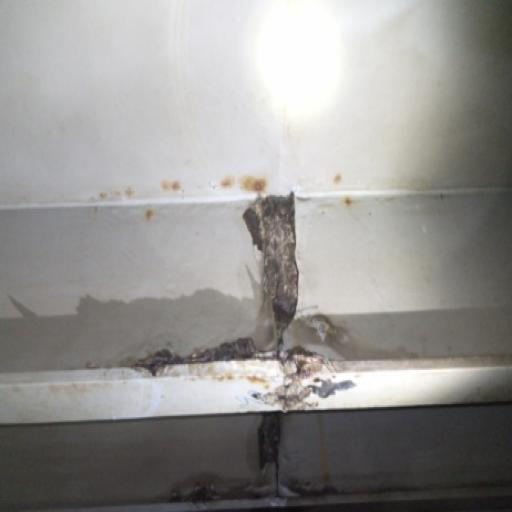Detect-rust-on-metal-surfaces: (74, 175, 380, 407), (218, 169, 271, 199)
